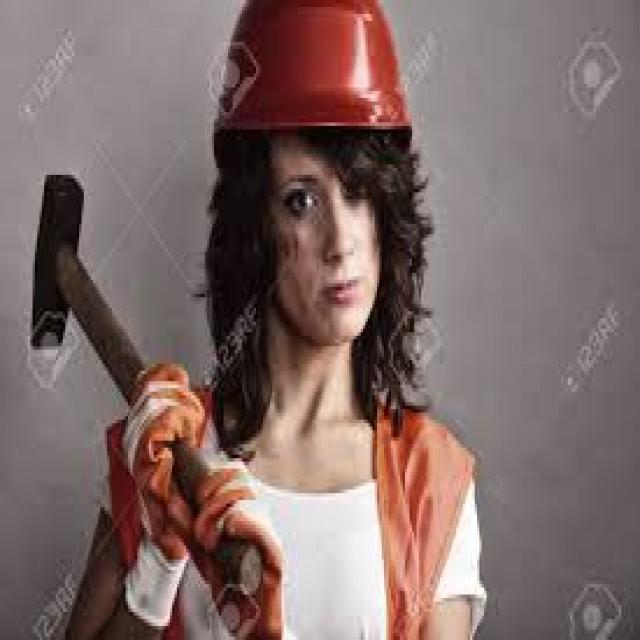hammer: (23, 153, 266, 594)
